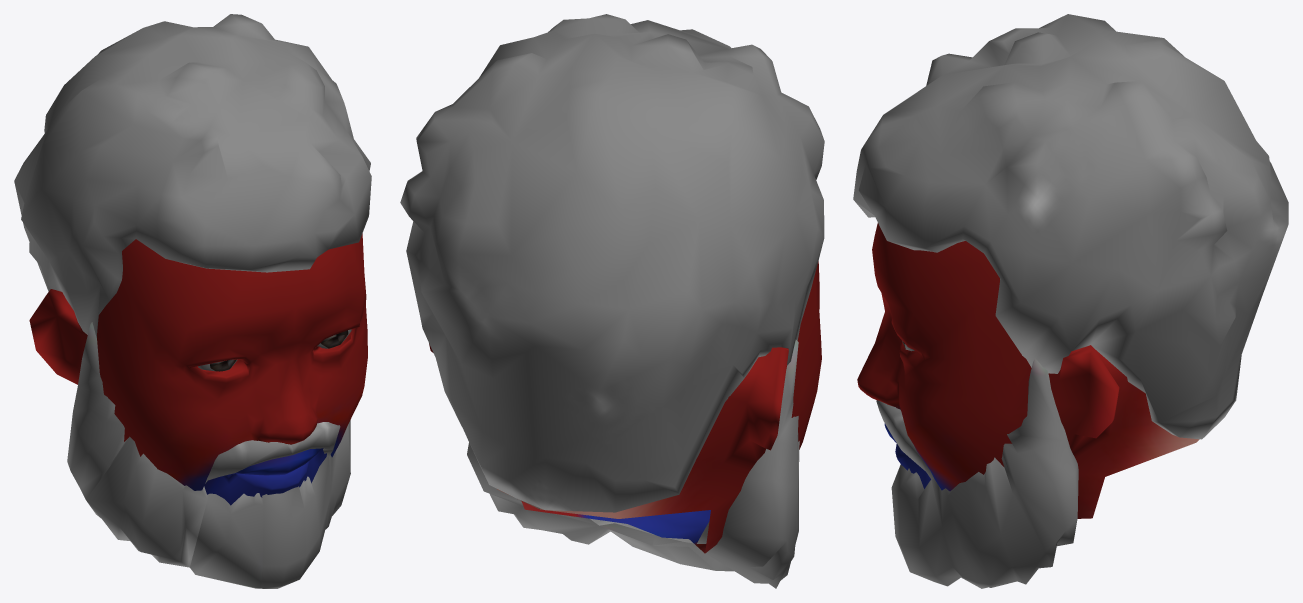
File: mascara.glb
3 views of the same model, side by side, from view 1: azimuth 30°, elevation 25°; view 2: azimuth 150°, elevation 25°; view 3: azimuth 270°, elevation 25° (orthographic). The views are drawn at different scales.
Parts seen in each view (by area): view 1: Object_74; view 2: Object_74; view 3: Object_74.
Part boxes in pixels (x1=…): Object_74: x1=14, y1=14, x2=371, y2=588; Object_74: x1=400, y1=14, x2=824, y2=588; Object_74: x1=853, y1=14, x2=1288, y2=588.
Size of the model in its own units: 18.64 by 29.03 by 21.57.
1 material, 1 textured.
